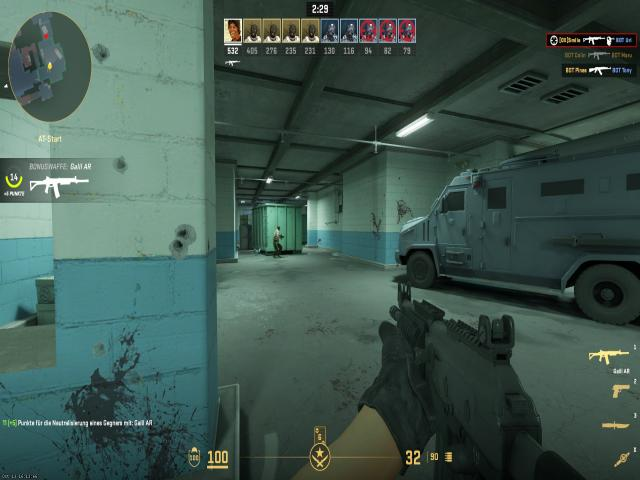T: (273, 226, 282, 257)
T-Head: (276, 226, 280, 229)
